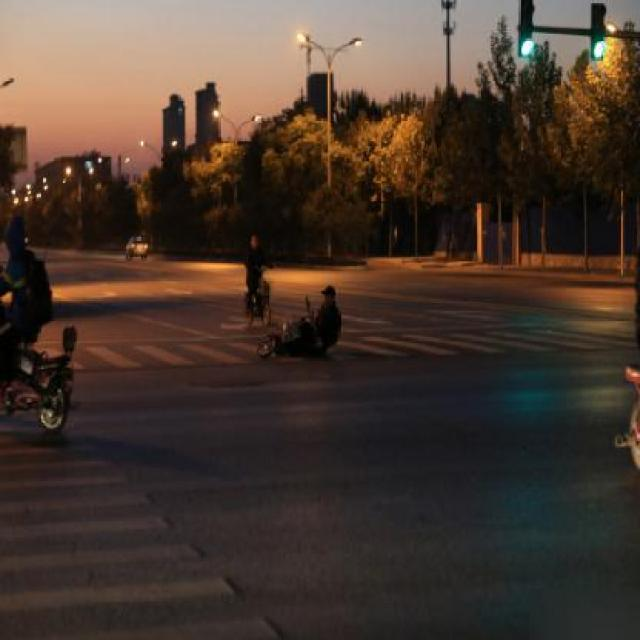fall: (261, 272, 348, 368)
